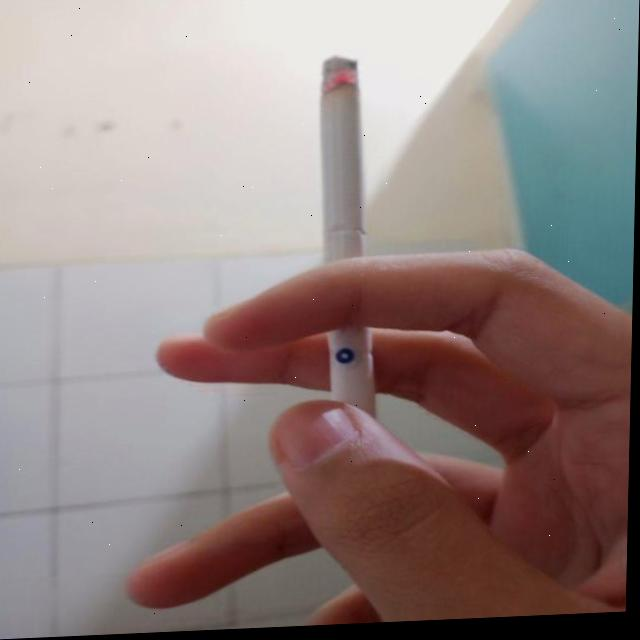cigarette: (312, 59, 383, 423)
